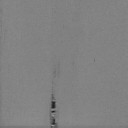slag inclusion: (50, 94, 56, 113), (50, 116, 58, 128)
